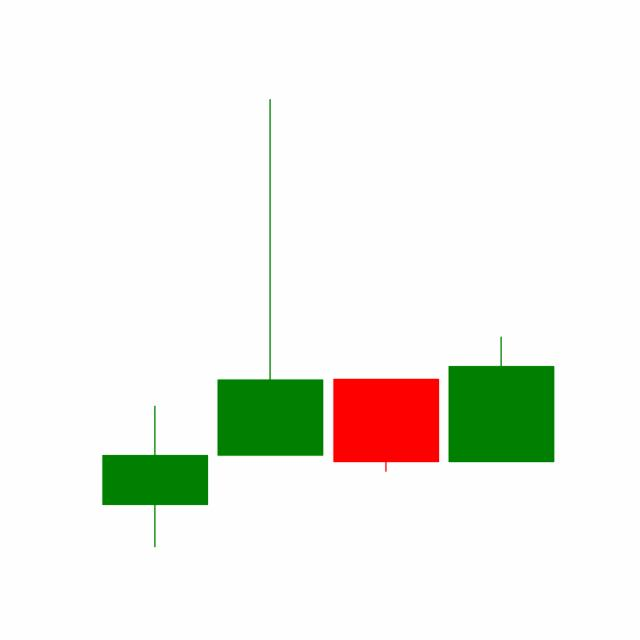Marubozu: (328, 377, 444, 472)
